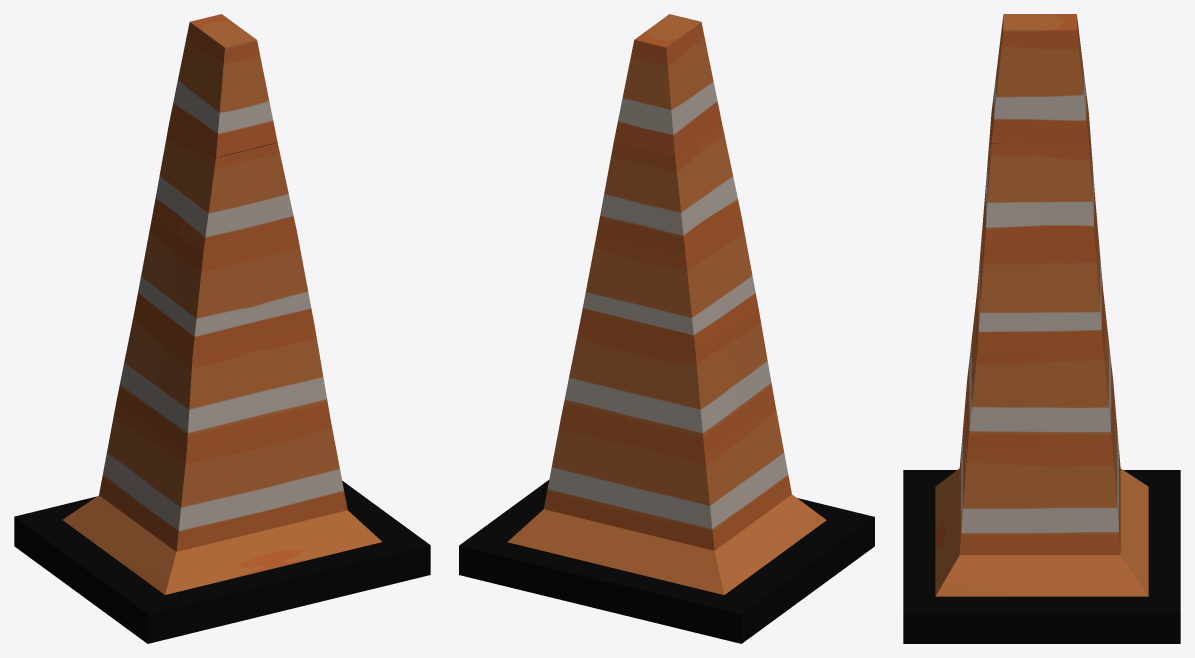
File: Traffic_Cone.fbx
The picture shows the model from 3 angles, left to right: view 1: azimuth 30°, elevation 25°; view 2: azimuth 150°, elevation 25°; view 3: azimuth 270°, elevation 25°; orthographic projection. The views are drawn at different scales.
Visible parts, largest first — view 1: Cube.158; view 2: Cube.158; view 3: Cube.158.
Part boxes in pixels (<box>): Cube.158: <box>14,14,430,643</box>; Cube.158: <box>459,14,874,643</box>; Cube.158: <box>903,14,1180,643</box>.
Size of the model in its own units: 200 by 358 by 163.
Materials: 1 (1 with a texture image).
